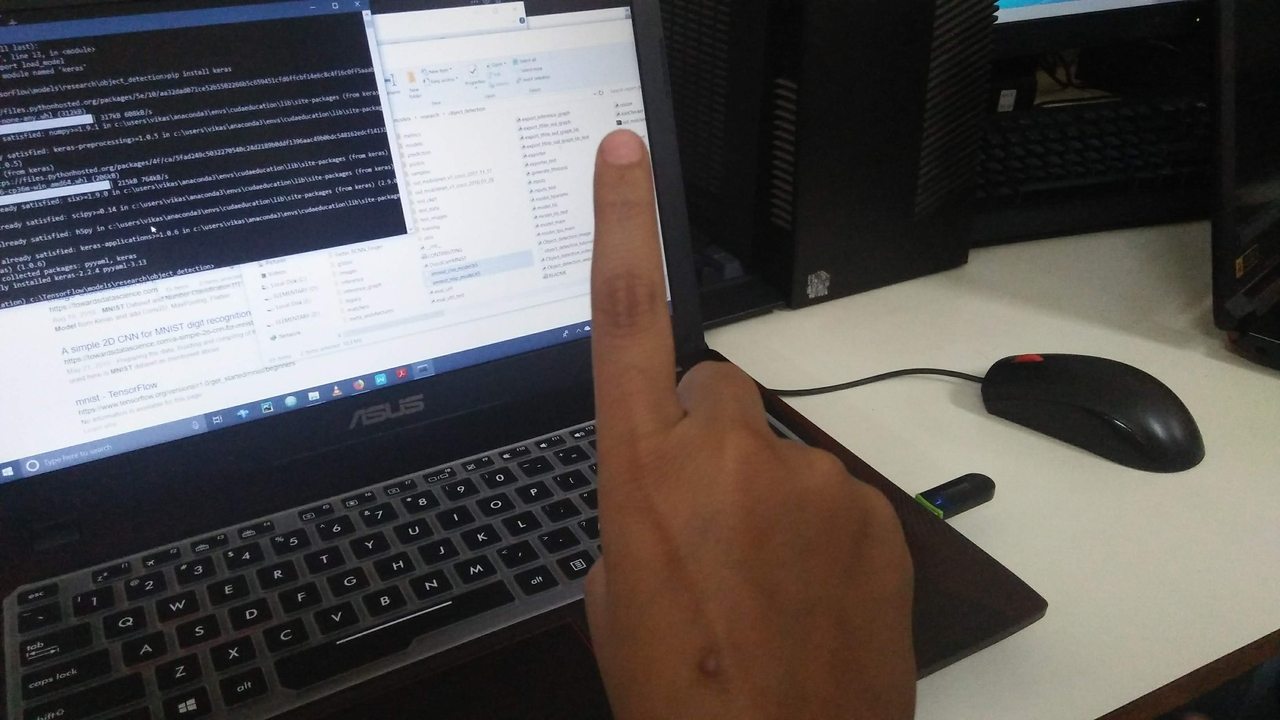fingertip: (586, 126, 646, 180)
